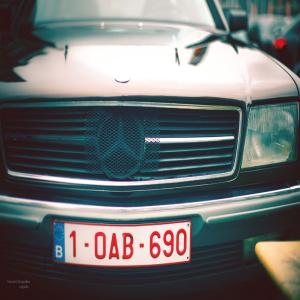Vehicle-registration-plate: (51, 218, 209, 275)
